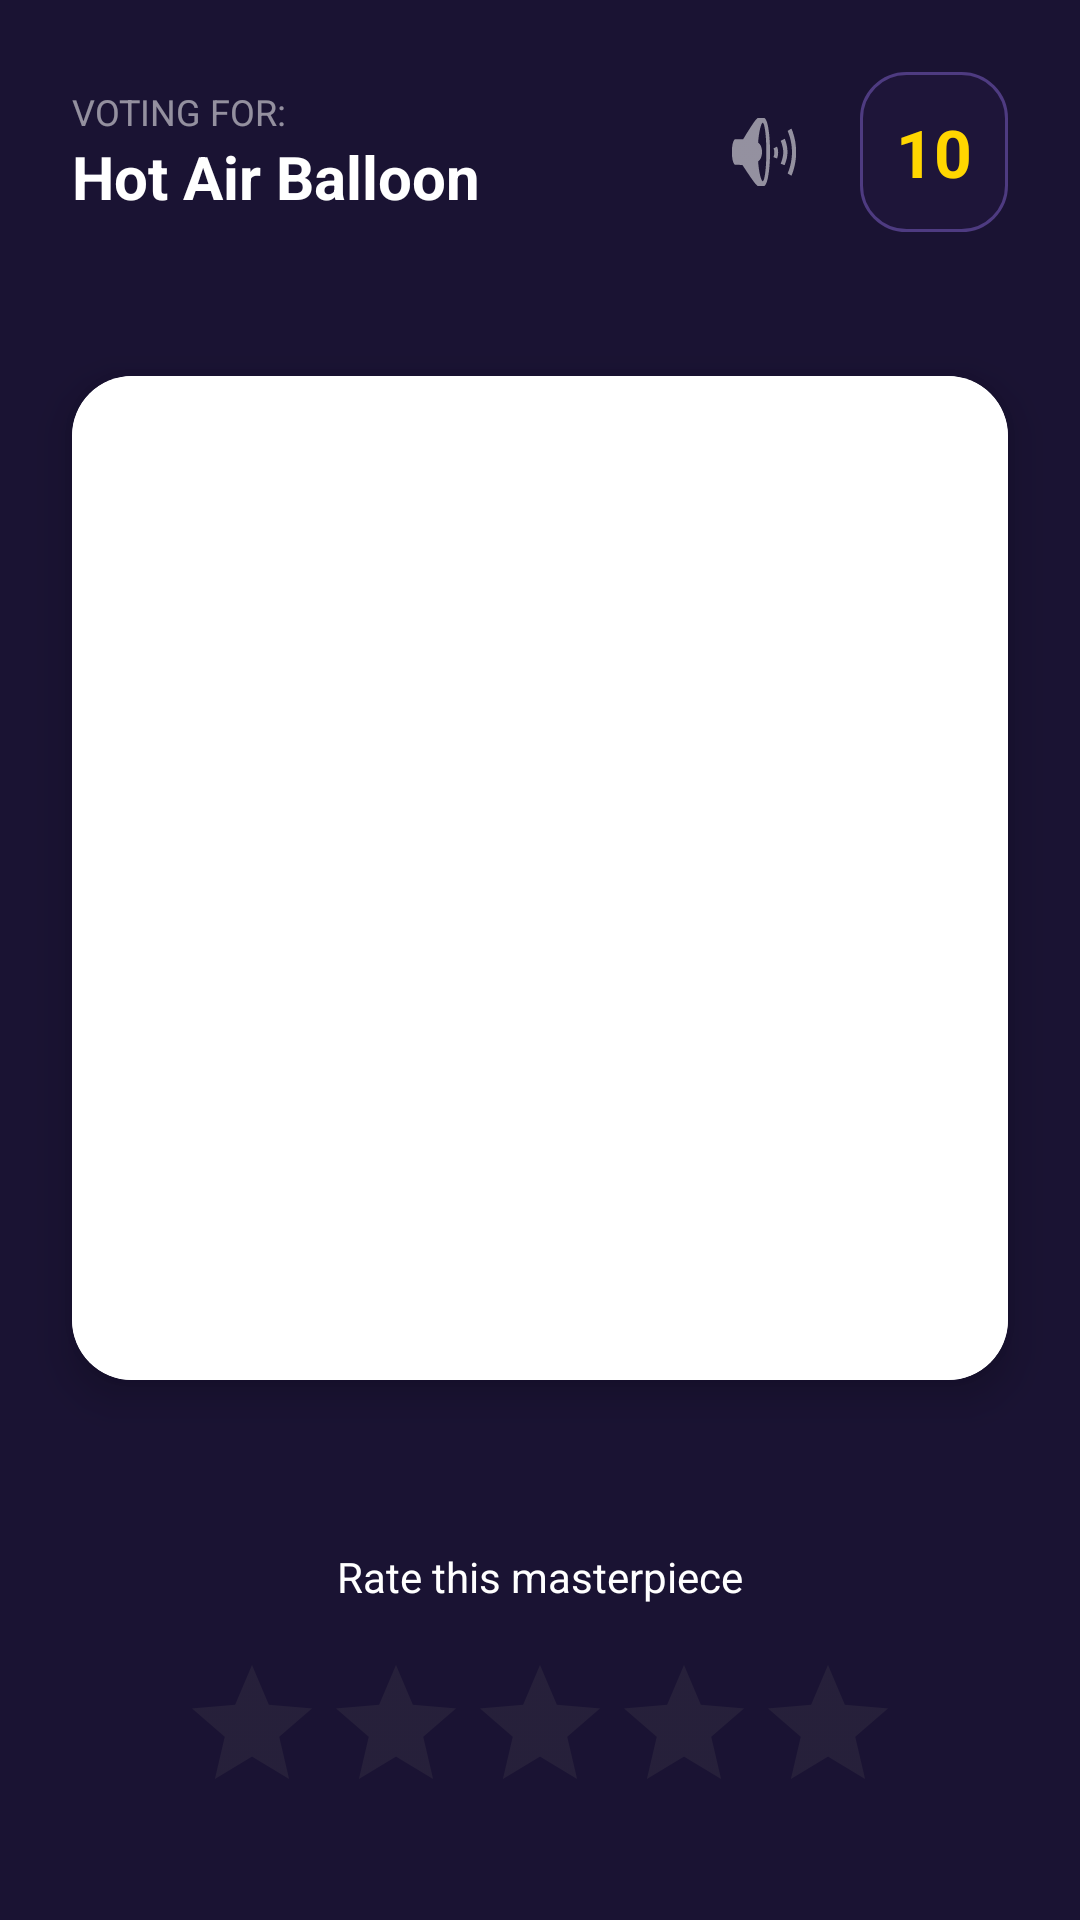

Locate icon controls on the screen. Image size 1080 x 1920, boxes as (x1, y1, x2, y2).
Mute: (732, 118, 796, 186)
